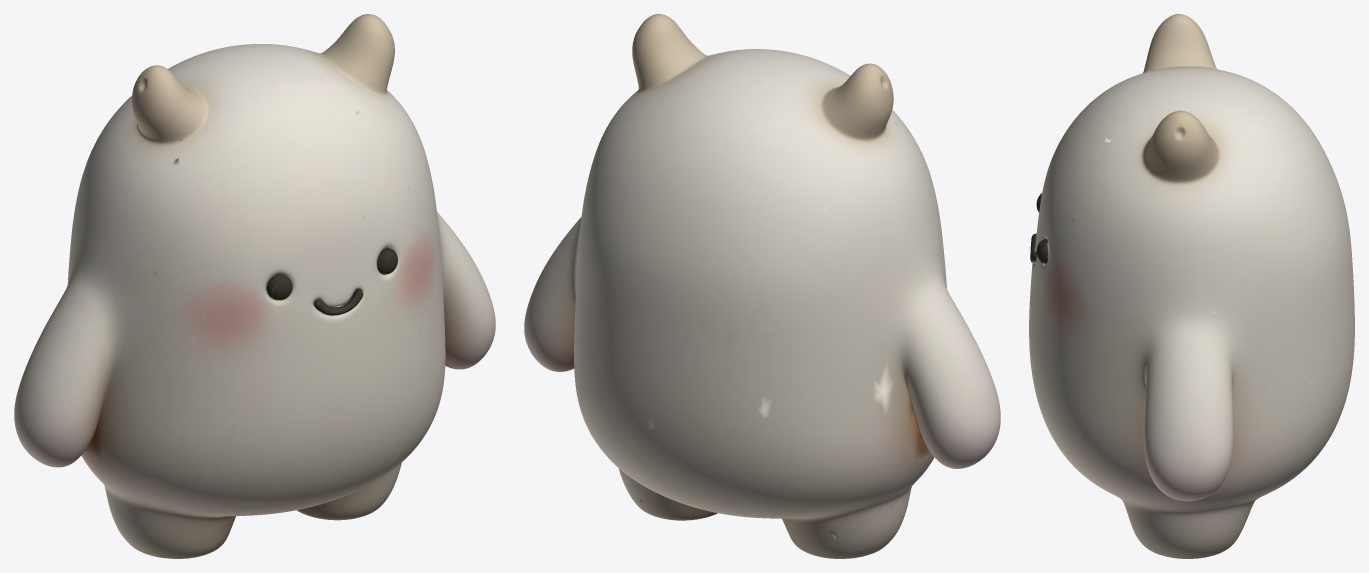
Rendered from character1.glb.
3 renders of one model, left to right at view 1: azimuth 30°, elevation 25°; view 2: azimuth 150°, elevation 25°; view 3: azimuth 270°, elevation 25°, orthographic. The views are drawn at different scales.
Parts seen in each view (by area): view 1: Mesh_0; view 2: Mesh_0; view 3: Mesh_0.
Boxes of the visible parts, bbox=[...] form: Mesh_0: bbox=[14, 14, 495, 558]; Mesh_0: bbox=[524, 14, 1000, 558]; Mesh_0: bbox=[1029, 14, 1354, 558].
Size of the model in its own units: 1.09 by 1.08 by 0.7132.
Materials: 1 (1 with a texture image).
